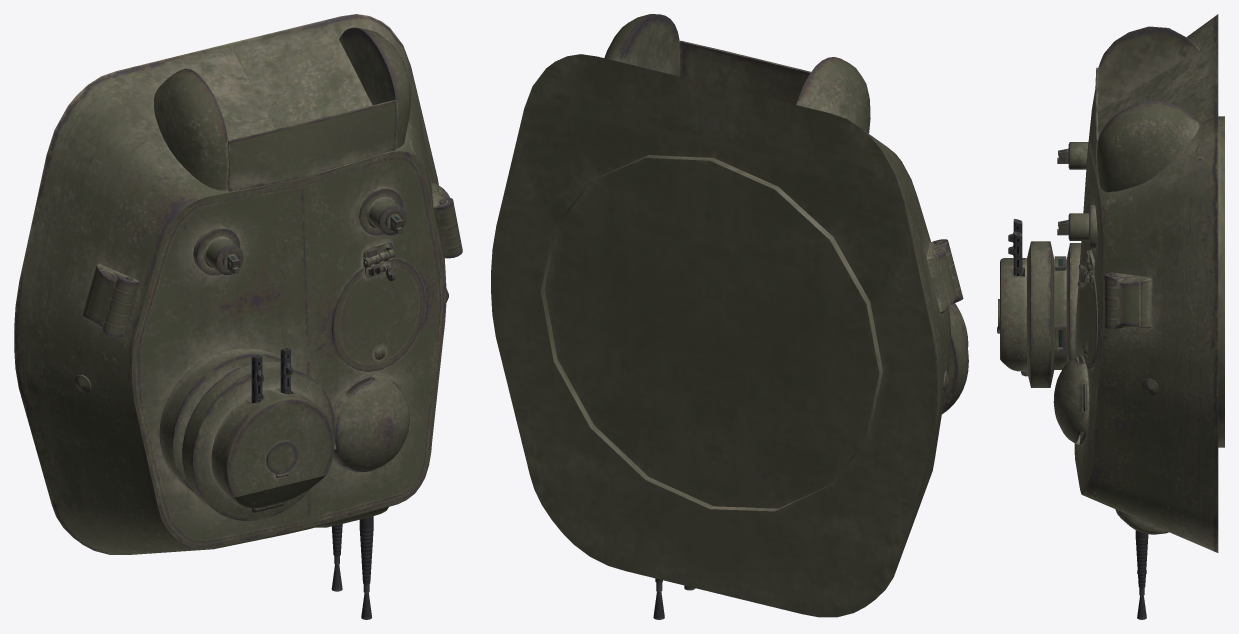
Rendered from Turret_01.glb.
3 views of the same model, side by side, from view 1: azimuth 30°, elevation 25°; view 2: azimuth 150°, elevation 25°; view 3: azimuth 270°, elevation 25° (orthographic). The views are drawn at different scales.
Visible parts, largest first — view 1: set_0_group_0; view 2: set_0_group_0; view 3: set_0_group_0.
Part boxes in pixels (box(x1,y1,x2,y2)): set_0_group_0: box(14, 14, 462, 619); set_0_group_0: box(491, 14, 968, 619); set_0_group_0: box(997, 14, 1224, 619).
Bounding box in the file's own units: 2.1 × 2.72 × 1.08.
1 material, 1 textured.
